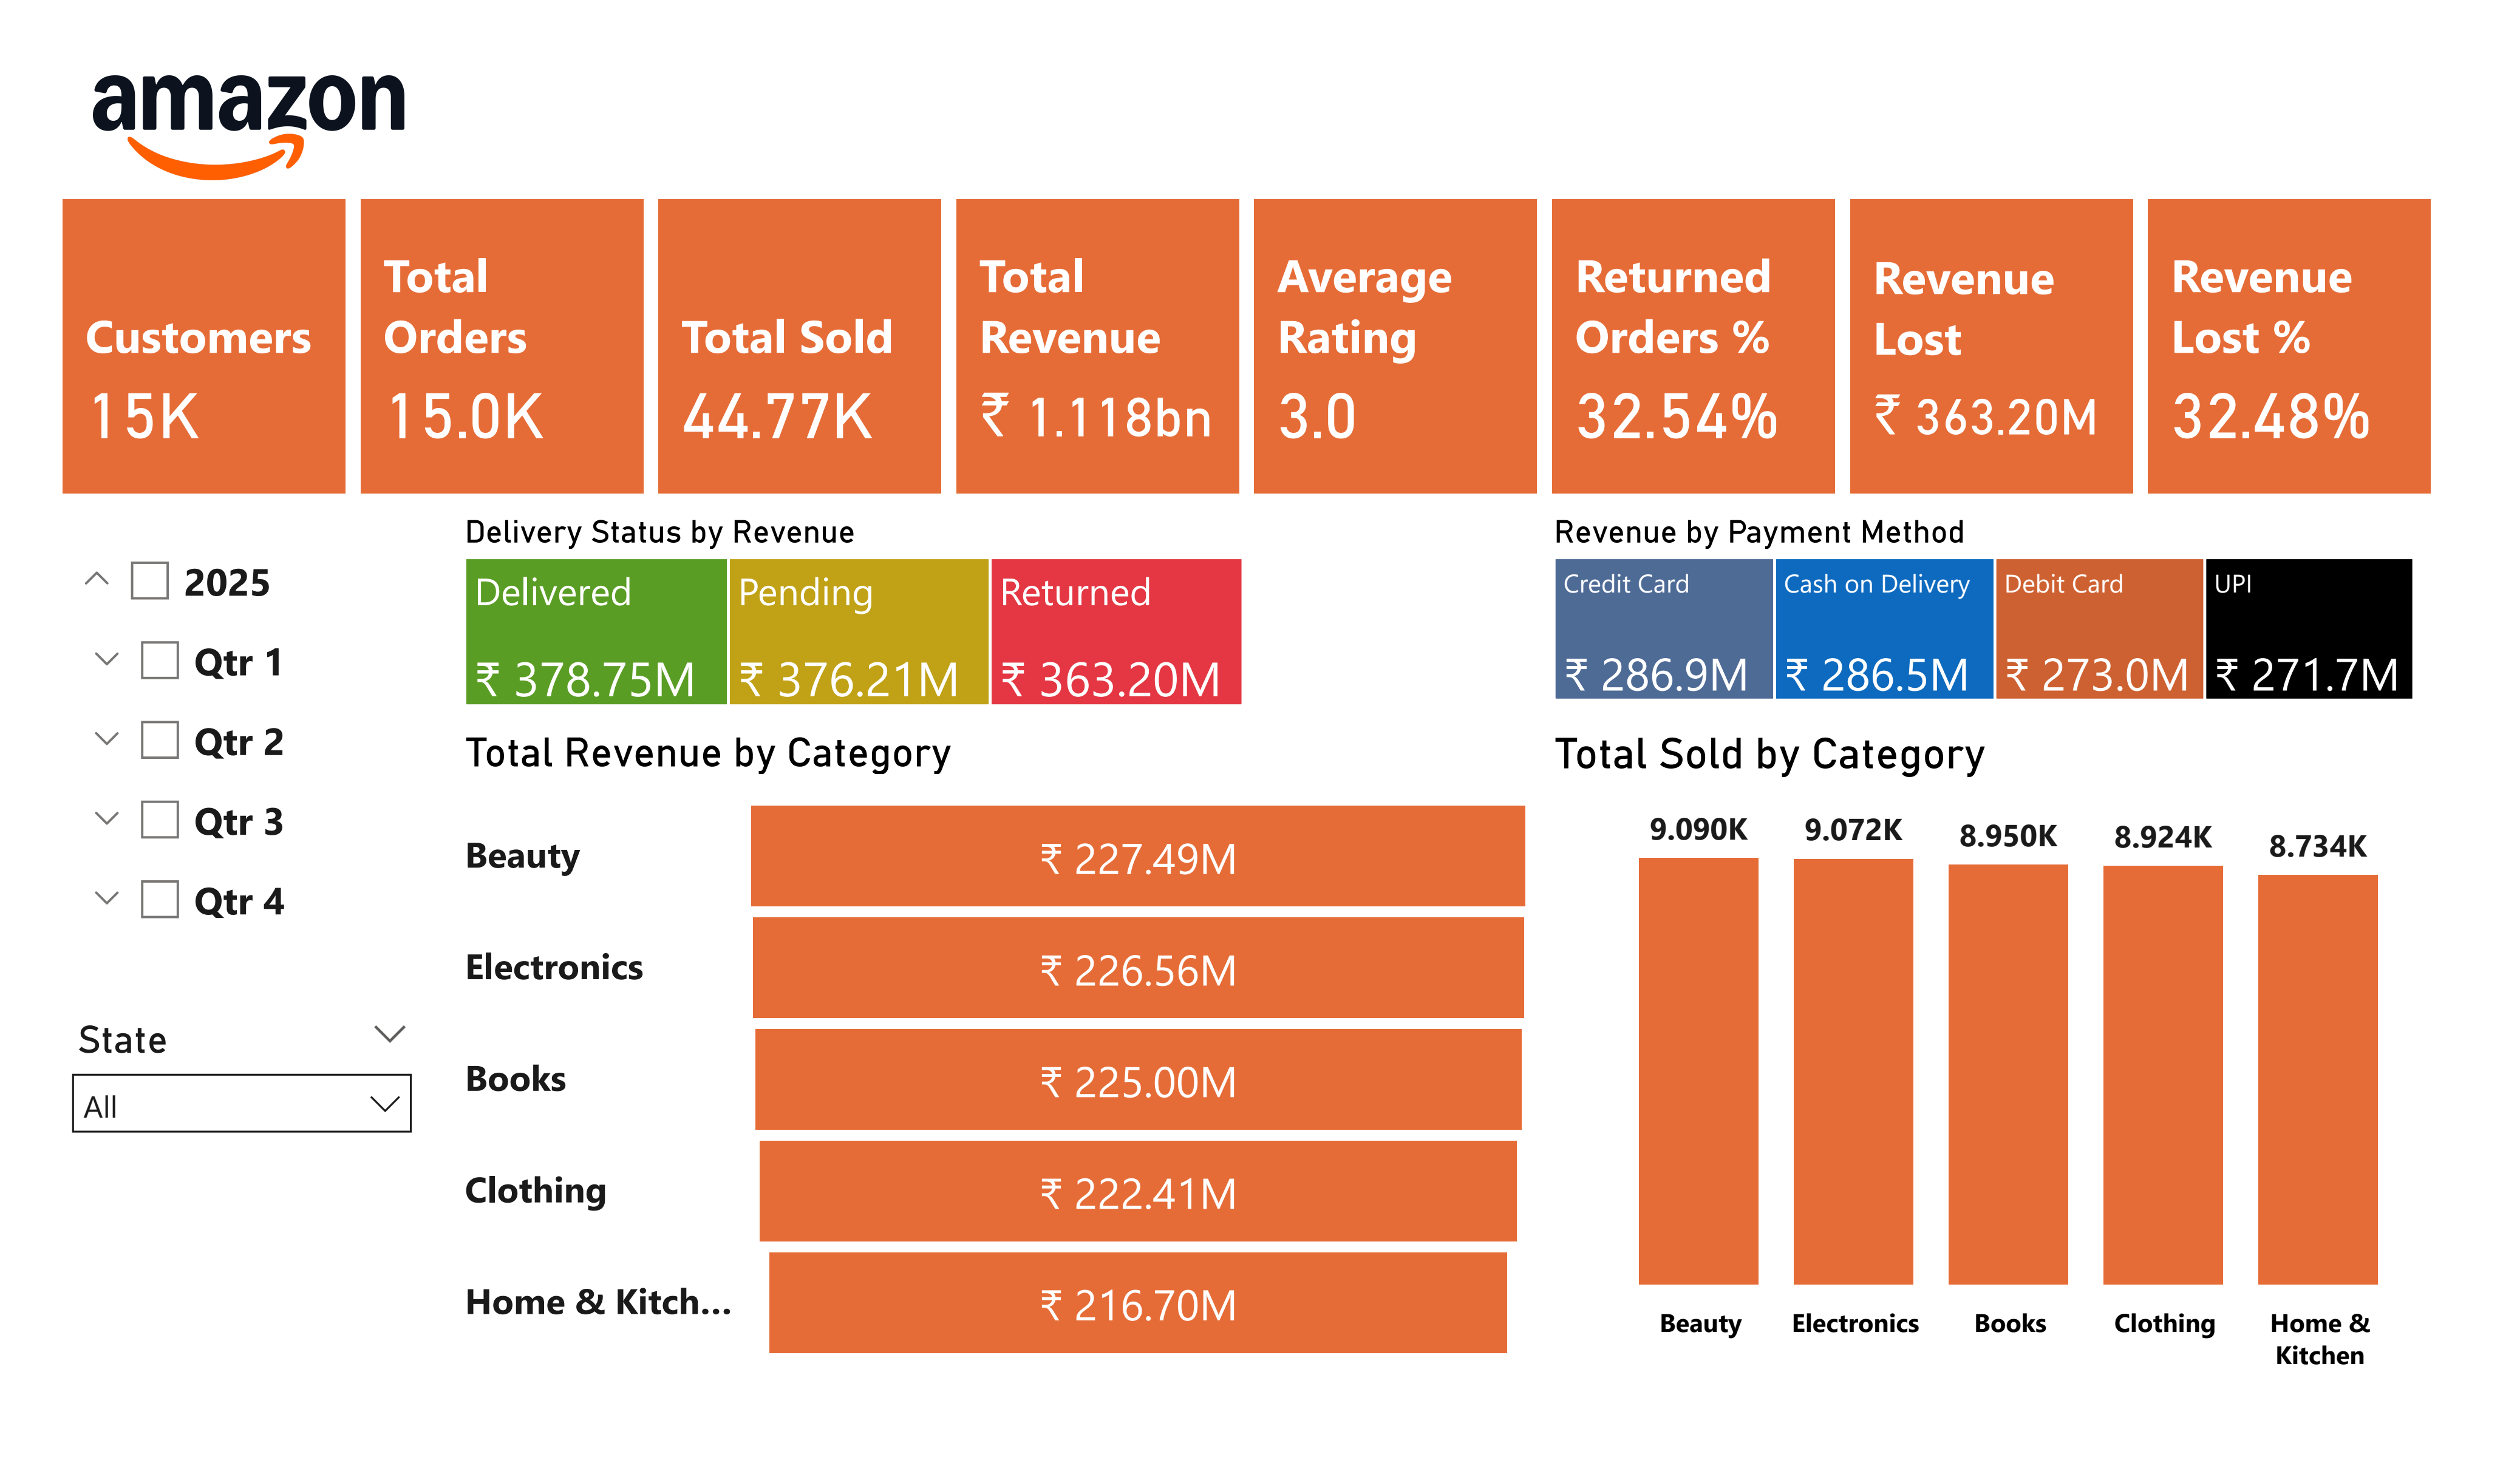

Layout of this report page (visuals, bound fields, positions):
{"tool":"powerbi","page":{"name":"Amazon India Sales 2025","canvas":[1280,720],"ordinal":0},"visuals":[{"type":"funnel","title":"Total Revenue by Category","fields":{"Category":["amazon_sales_2025_INR.Product_Category"],"Y":["Sum(amazon_sales_2025_INR.Total_Sales_INR)"]},"box":[215.7,360,574.3,345.7],"z":0},{"type":"slicer","fields":{"Values":["amazon_sales_2025_INR.Date.Variation.Date Hierarchy.Year","amazon_sales_2025_INR.Date.Variation.Date Hierarchy.Quarter","amazon_sales_2025_INR.Date.Variation.Date Hierarchy.Month","amazon_sales_2025_INR.Date.Variation.Date Hierarchy.Day"]},"box":[4.3,255.7,204.3,251.4],"z":1000},{"type":"image","box":[11.7,11.7,191.7,63.3],"z":2000},{"type":"cardVisual","fields":{"Data":["CountNonNull(amazon sales 2025.Customer_ID)","CountNonNull(amazon_sales_2025_INR.Order_ID)","Sum(amazon_sales_2025_INR.Quantity)","Sum(amazon sales 2025.Total_Sales_INR)","Avg(amazon_sales_2025_INR.Review_Rating)","amazon sales 2025.Returned Orders %","amazon sales 2025.Revenue Lost","amazon sales 2025.Revenue Lost divided by Sum of Total_Sales_INR"]},"box":[11.4,75.7,1257.1,165.7],"z":3000},{"type":"lineStackedColumnComboChart","title":"Total Sold by Category","fields":{"Y":["Sum(amazon_sales_2025_INR.Quantity)"],"Category":["amazon_sales_2025_INR.Product_Category"]},"box":[815.7,360,452.9,345.7],"z":4000},{"type":"treemap","title":"Delivery Status by Revenue","fields":{"Group":["amazon_sales_2025_INR.Delivery_Status"],"Values":["Sum(amazon_sales_2025_INR.Total_Sales_INR)"]},"box":[215.7,244.3,382.9,107.1],"z":5000},{"type":"treemap","title":"Revenue by Payment Method","fields":{"Group":["amazon_sales_2025_INR.Payment_Method"],"Values":["Sum(amazon_sales_2025_INR.Total_Sales_INR)"]},"box":[815.7,247.1,452.9,101.4],"z":6000},{"type":"slicer","fields":{"Values":["amazon sales 2025.State"]},"box":[0,507.1,202.9,198.6],"z":6001}]}

Visuals, with their boxes on the page's 1280x720 design canvas (x1, y1, x2, y2). These are canvas units, not pixel positions in the 2520x1457 screenshot, which may show the page scaled, cropped or inside an application window:
"Total Revenue by Category" funnel: <bbox>216, 360, 790, 706</bbox>
slicer - amazon_sales_2025_INR.Date.Variation.Date Hierarchy.Year x amazon_sales_2025_INR.Date.Variation.Date Hierarchy.Quarter: <bbox>4, 256, 209, 507</bbox>
image: <bbox>12, 12, 203, 75</bbox>
cardVisual - CountNonNull(amazon sales 2025.Customer_ID) x CountNonNull(amazon_sales_2025_INR.Order_ID): <bbox>11, 76, 1268, 241</bbox>
"Total Sold by Category" lineStackedColumnComboChart: <bbox>816, 360, 1269, 706</bbox>
"Delivery Status by Revenue" treemap: <bbox>216, 244, 599, 351</bbox>
"Revenue by Payment Method" treemap: <bbox>816, 247, 1269, 348</bbox>
slicer - amazon sales 2025.State: <bbox>0, 507, 203, 706</bbox>
